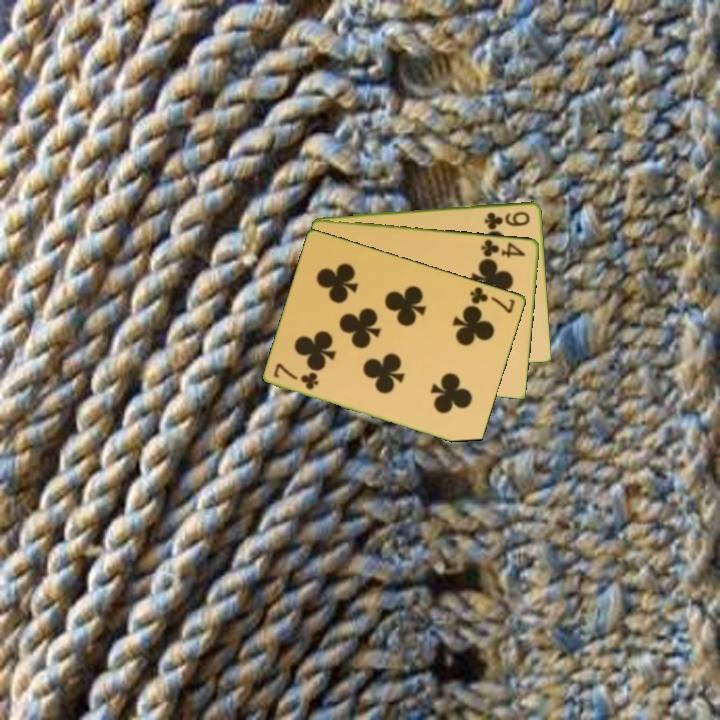4c: (478, 235, 528, 260)
7c: (270, 359, 322, 393), (467, 283, 518, 316)
9c: (482, 207, 533, 229)
